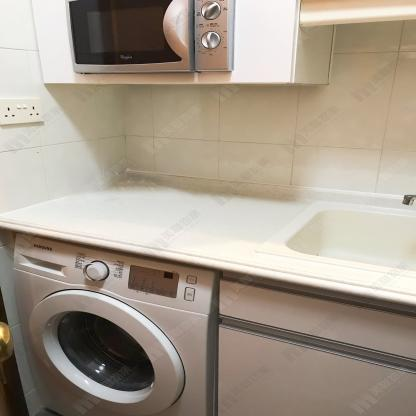Microwave: (64, 0, 240, 77)
Sink: (219, 197, 416, 297)
Washing Machine: (10, 232, 223, 416)
